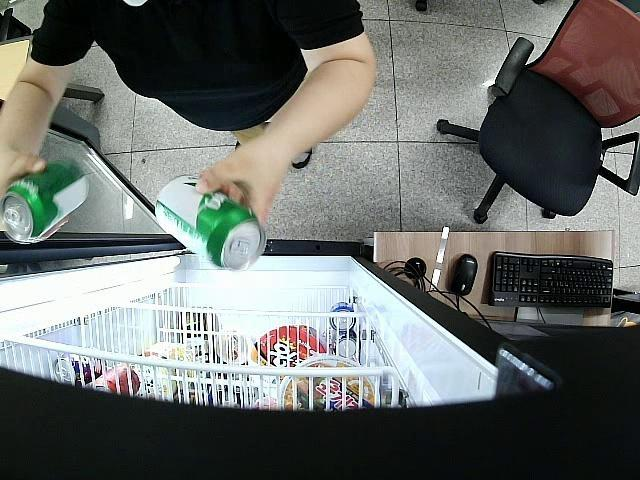12_chilsungCider: (154, 172, 267, 272), (0, 161, 89, 244)
